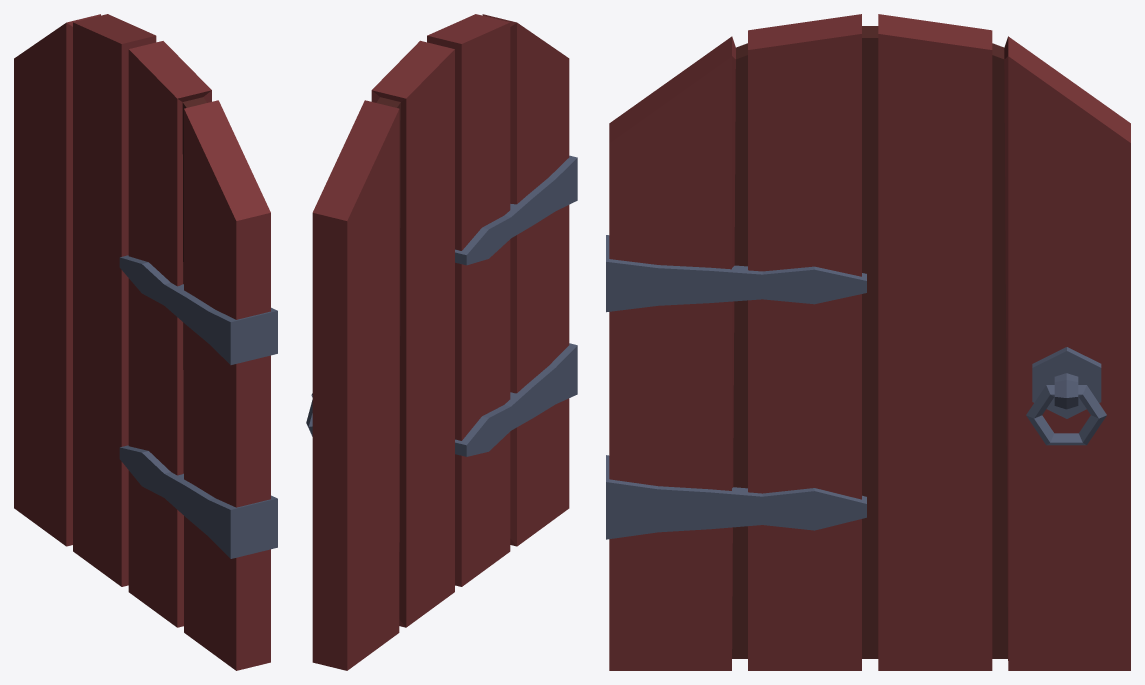
File: Door.fbx
3 renders of one model, left to right at view 1: azimuth 30°, elevation 25°; view 2: azimuth 150°, elevation 25°; view 3: azimuth 270°, elevation 25°, orthographic. The views are drawn at different scales.
Visible parts, largest first — view 1: Gate.055; view 2: Gate.055; view 3: Gate.055.
Boxes of the visible parts, x1,y1,x2,y2 form: Gate.055: (14, 14, 277, 670); Gate.055: (306, 14, 577, 670); Gate.055: (606, 14, 1130, 670).
Size of the model in its own units: 37.05 by 285 by 212.
